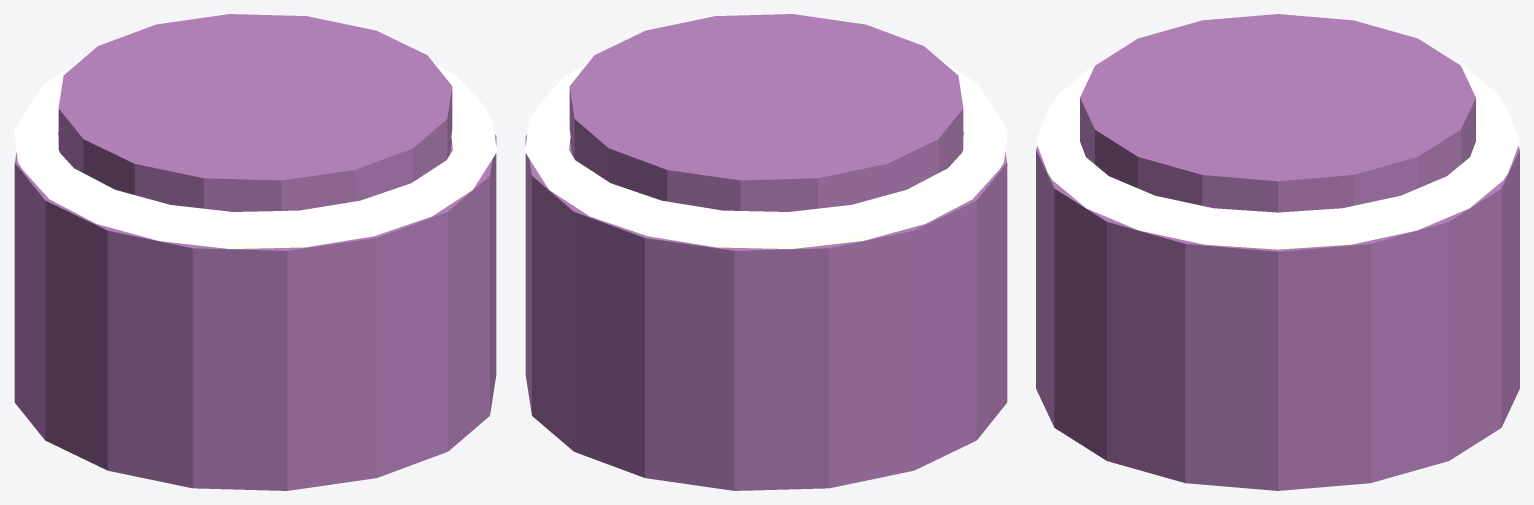
File: Checkpoint_Pufe.fbx
The picture shows the model from 3 angles, left to right: view 1: azimuth 30°, elevation 25°; view 2: azimuth 150°, elevation 25°; view 3: azimuth 270°, elevation 25°; orthographic projection.
Parts seen in each view (by area): view 1: Checkpoint_Pufe; view 2: Checkpoint_Pufe; view 3: Checkpoint_Pufe.
Boxes of the visible parts, x1,y1,x2,y2 form: Checkpoint_Pufe: (14, 14, 496, 490); Checkpoint_Pufe: (525, 14, 1007, 490); Checkpoint_Pufe: (1036, 14, 1519, 490).
Size of the model in its own units: 1.1 by 0.73 by 1.1.
